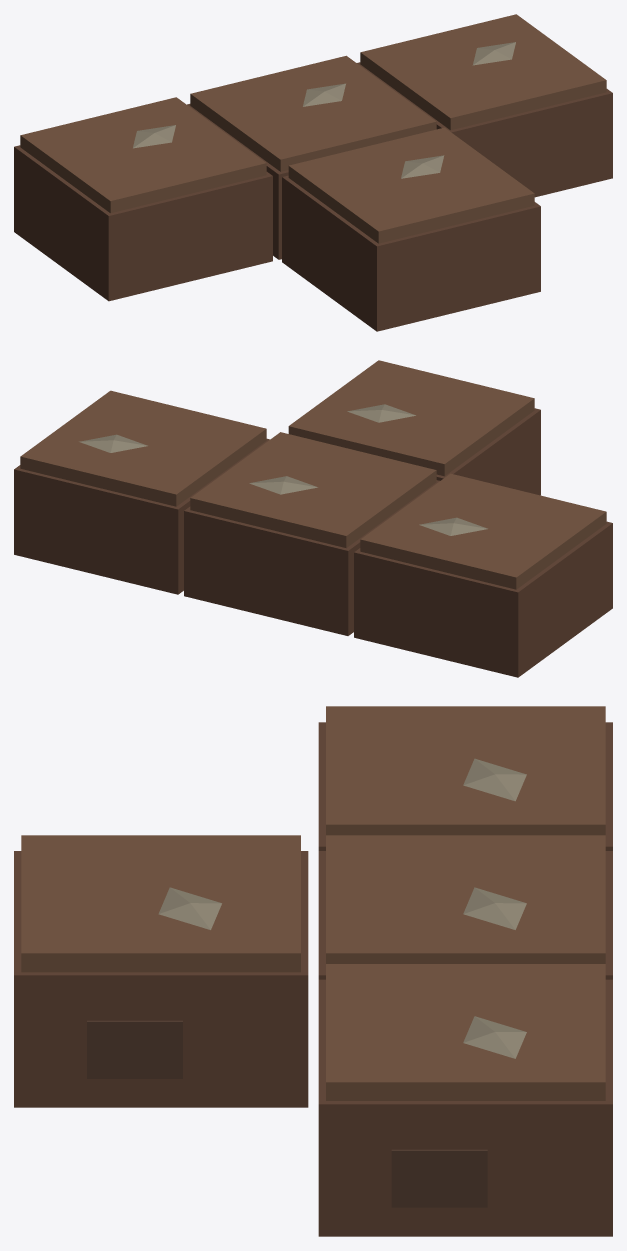
Rendered from pile-mud-4.gltf.
The picture shows the model from 3 angles, top to bottom: view 1: azimuth 30°, elevation 25°; view 2: azimuth 150°, elevation 25°; view 3: azimuth 270°, elevation 25°; orthographic projection. The views are drawn at different scales.
Parts seen in each view (by area): view 1: pile-mud-4; view 2: pile-mud-4; view 3: pile-mud-4.
Boxes of the visible parts, <box> form: pile-mud-4: <box>14,14,612,331</box>; pile-mud-4: <box>14,360,612,677</box>; pile-mud-4: <box>14,706,612,1236</box>.
Size of the model in its own units: 0.869 by 0.167 by 0.574.
